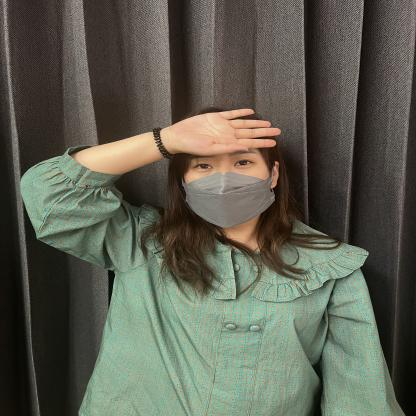Sick: (137, 78, 377, 218)
